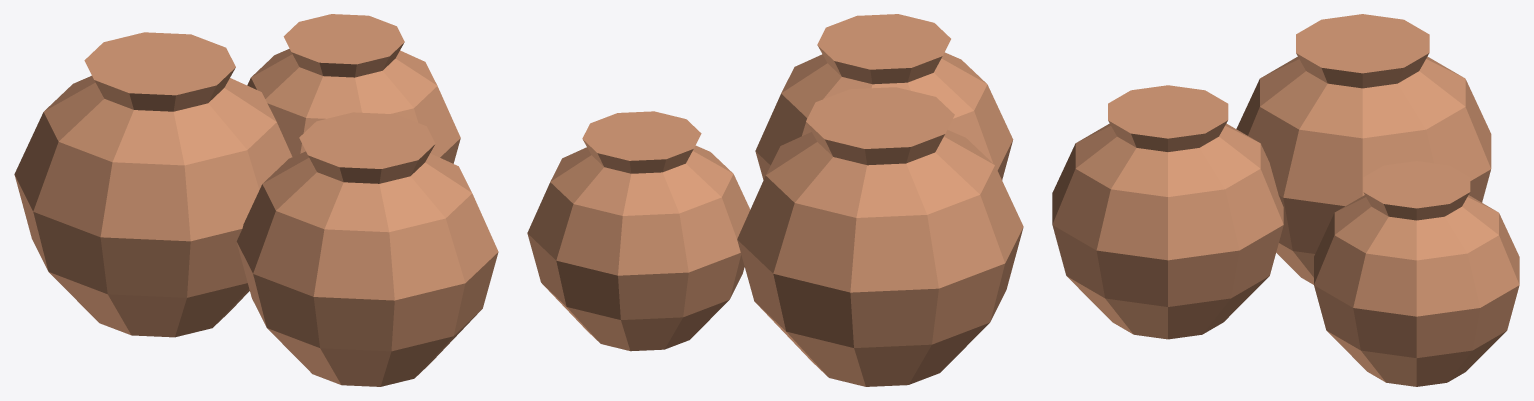
File: clay_pots.glb
3 renders of one model, left to right at view 1: azimuth 30°, elevation 25°; view 2: azimuth 150°, elevation 25°; view 3: azimuth 270°, elevation 25°, orthographic. The views are drawn at different scales.
Parts seen in each view (by area): view 1: clay_pots; view 2: clay_pots; view 3: clay_pots.
Part boxes in pixels (x1=…): clay_pots: x1=14, y1=14, x2=498, y2=386; clay_pots: x1=527, y1=14, x2=1023, y2=386; clay_pots: x1=1052, y1=14, x2=1519, y2=386.
Bounding box in the file's own units: 0.87 × 0.46 × 0.8642.
